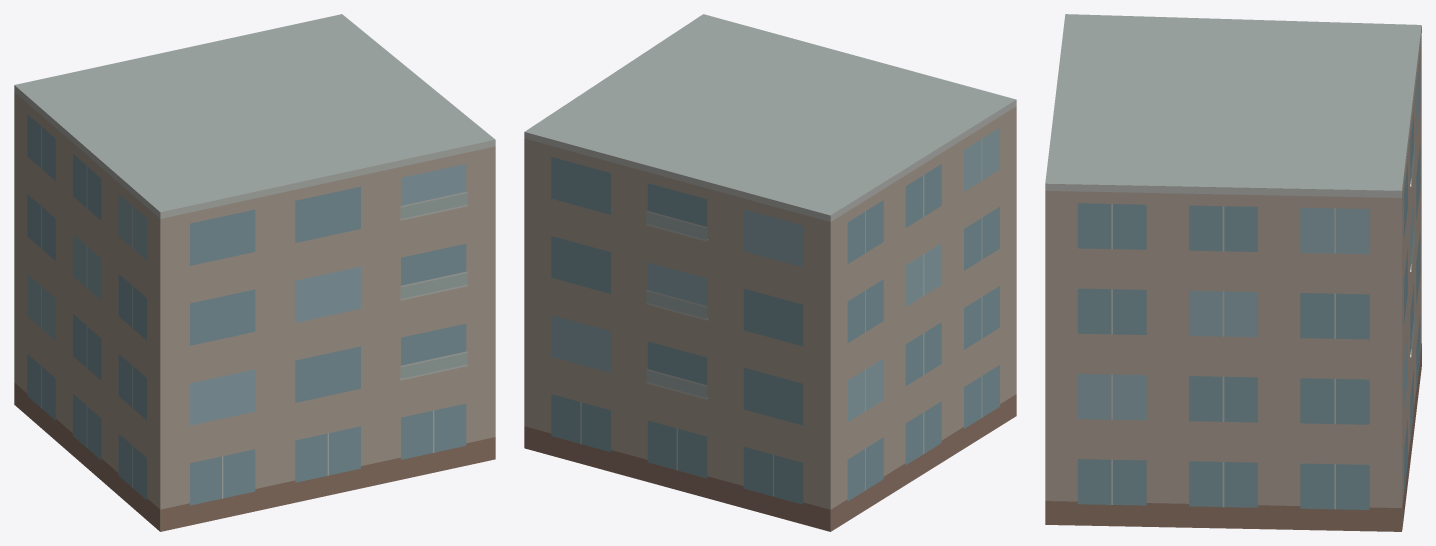
Rendered from survey-upis-32605391.glb.
3 renders of one model, left to right at view 1: azimuth 30°, elevation 25°; view 2: azimuth 150°, elevation 25°; view 3: azimuth 270°, elevation 25°, orthographic. The views are drawn at different scales.
Parts seen in each view (by area): view 1: survey-upis-32605391.tmp; view 2: survey-upis-32605391.tmp; view 3: survey-upis-32605391.tmp.
Boxes of the visible parts, x1,y1,x2,y2 form: survey-upis-32605391.tmp: (14,14,495,531); survey-upis-32605391.tmp: (524,14,1016,531); survey-upis-32605391.tmp: (1045,14,1421,531).
Size of the model in its own units: 13.02 by 11.7 by 11.72.
